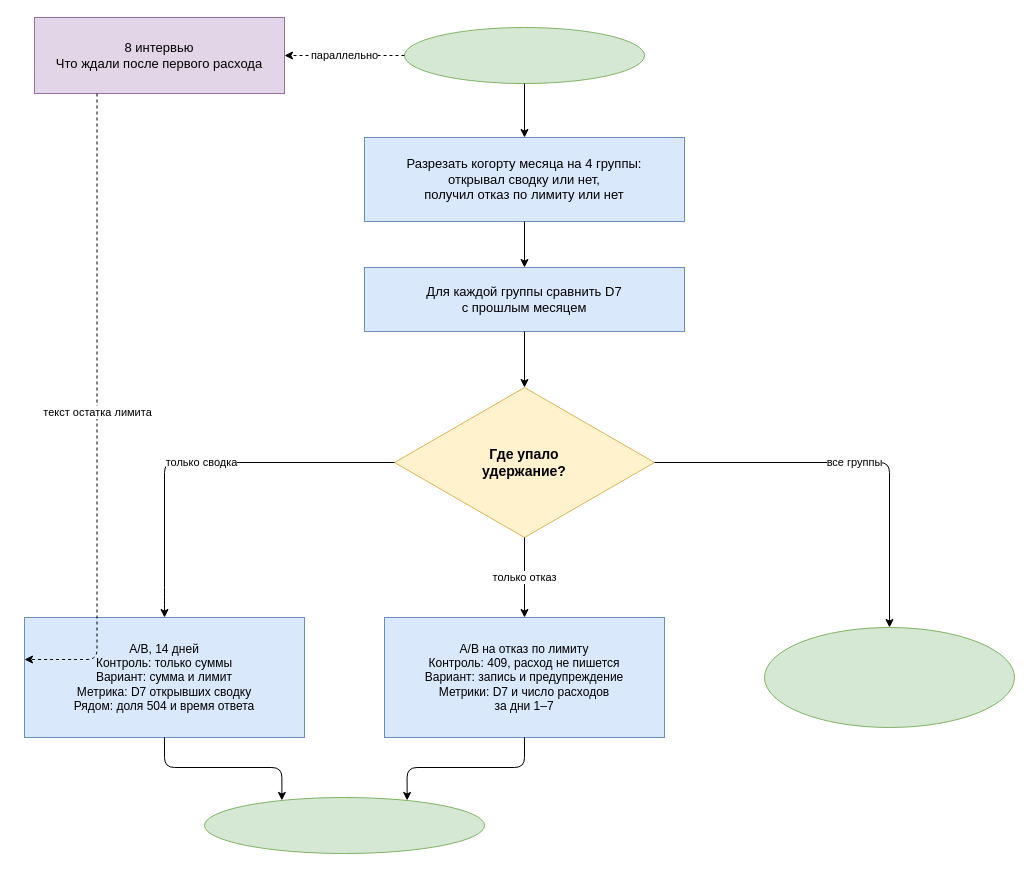
Some shapes in this 1032 by 871 pixel diagram are drawn without their labels. Here are the shapes that lost their labels. From the top down, the box of each, then its label:
(404, 26, 644, 84): D7 упало на 15%
(764, 626, 1014, 728): Сначала разделить источники регистрации. A/B интерфейса не запускать
(204, 796, 484, 854): Решение по A/B-тесту
